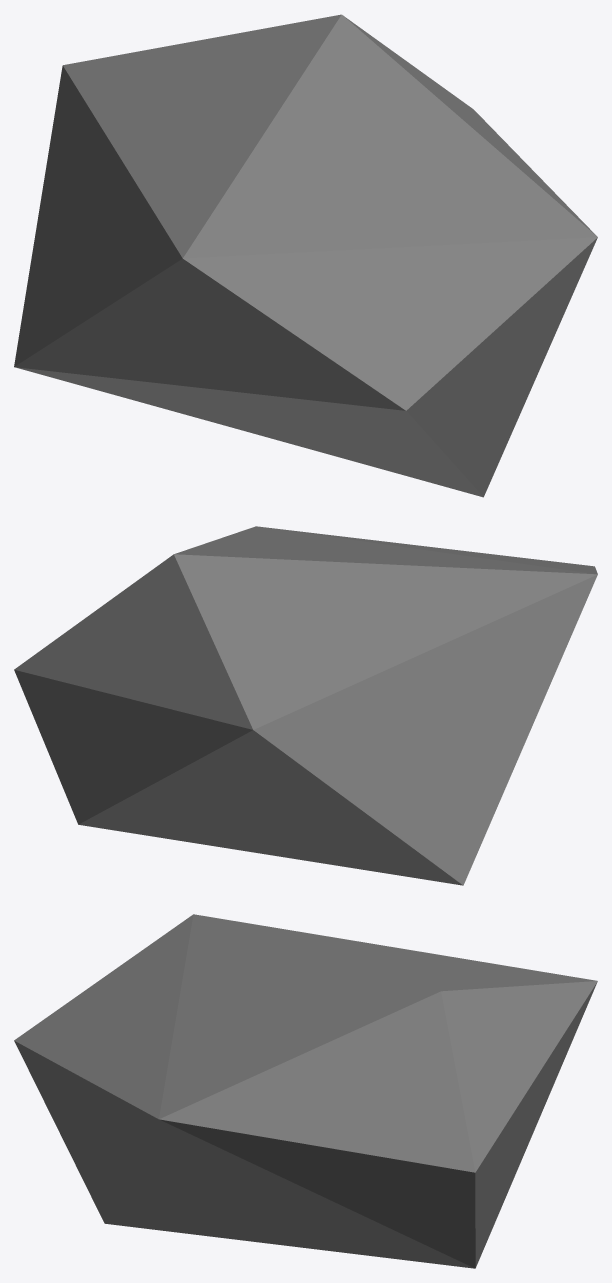
Rendered from Stone_04.fbx.
The picture shows the model from 3 angles, top to bottom: view 1: azimuth 30°, elevation 25°; view 2: azimuth 150°, elevation 25°; view 3: azimuth 270°, elevation 25°; orthographic projection. The views are drawn at different scales.
Parts seen in each view (by area): view 1: Cube; view 2: Cube; view 3: Cube.
Part boxes in pixels (bbox=[...]): Cube: bbox=[14, 14, 597, 497]; Cube: bbox=[14, 526, 597, 885]; Cube: bbox=[14, 914, 597, 1268].
Size of the model in its own units: 53.25 by 33.89 by 69.52.
